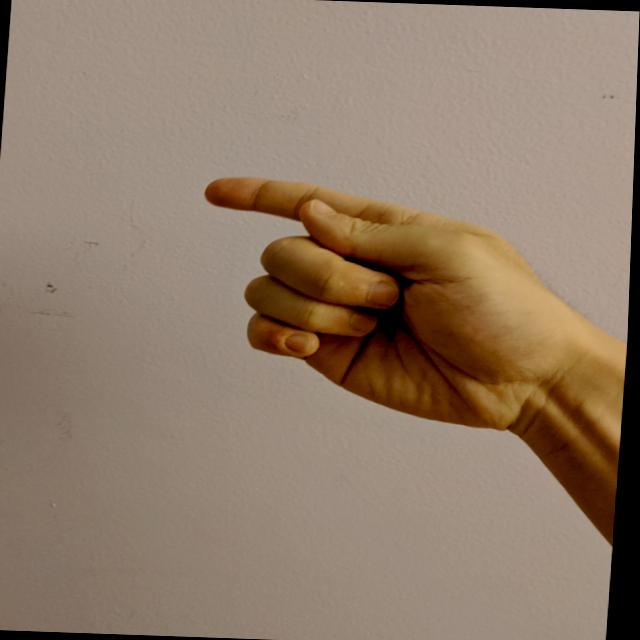G: (180, 168, 584, 444)
